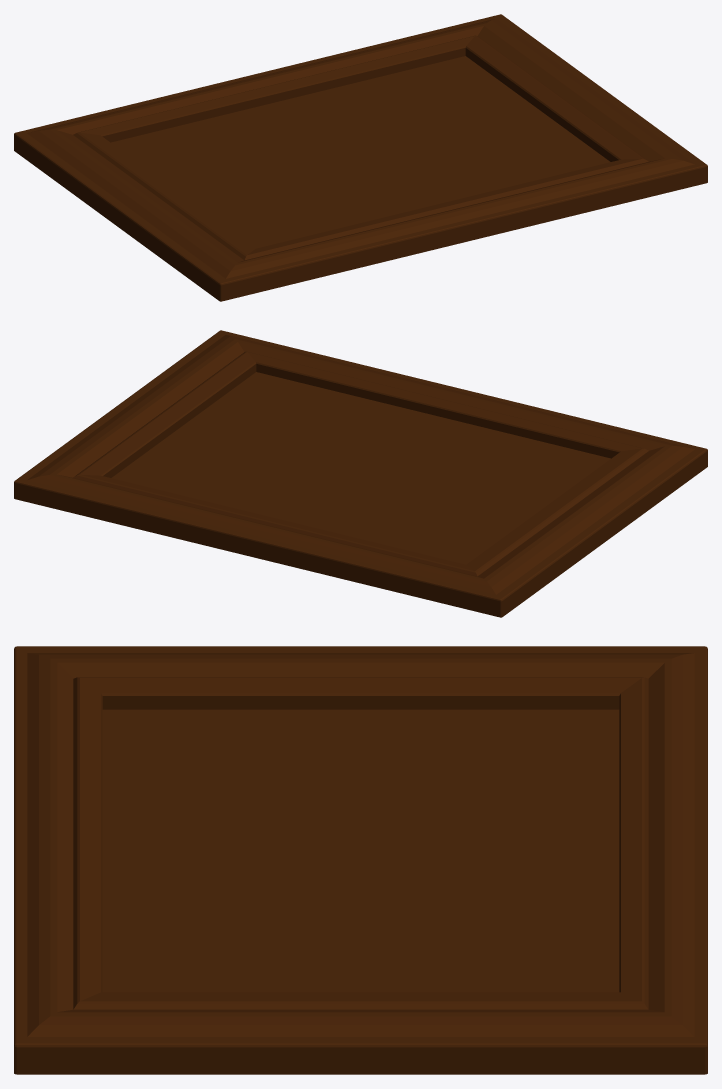
The model's file is FRAME_WALL2.fbx.
3 views of the same model, one above another, from view 1: azimuth 30°, elevation 25°; view 2: azimuth 150°, elevation 25°; view 3: azimuth 270°, elevation 25° (orthographic). The views are drawn at different scales.
Parts seen in each view (by area): view 1: Plane.003; view 2: Plane.003; view 3: Plane.003.
Boxes of the visible parts, x1,y1,x2,y2 form: Plane.003: (14, 14, 707, 301); Plane.003: (14, 330, 707, 617); Plane.003: (14, 646, 707, 1074).
Bounding box in the file's own units: 1194 × 52.05 × 877.
